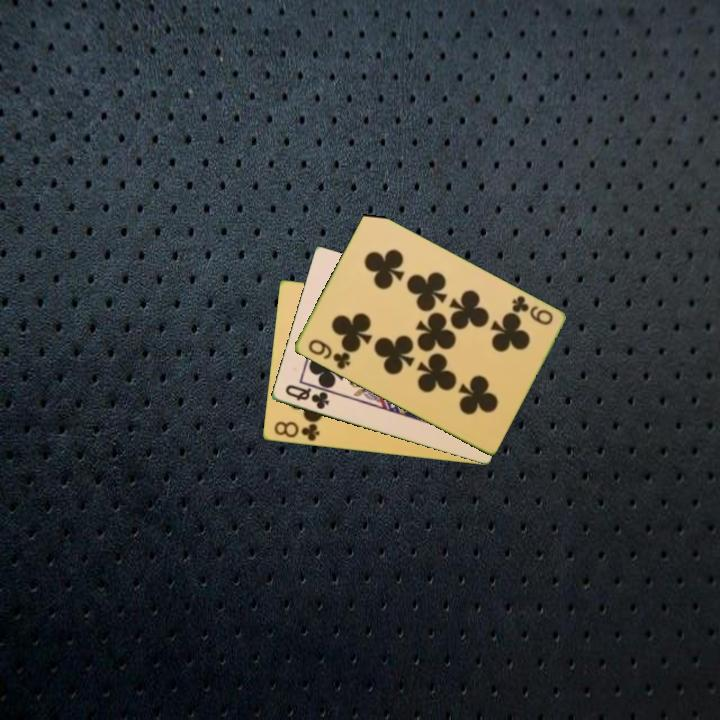8c: (270, 418, 322, 444)
9c: (304, 336, 353, 373), (508, 292, 556, 328)
Qc: (281, 381, 332, 413)
